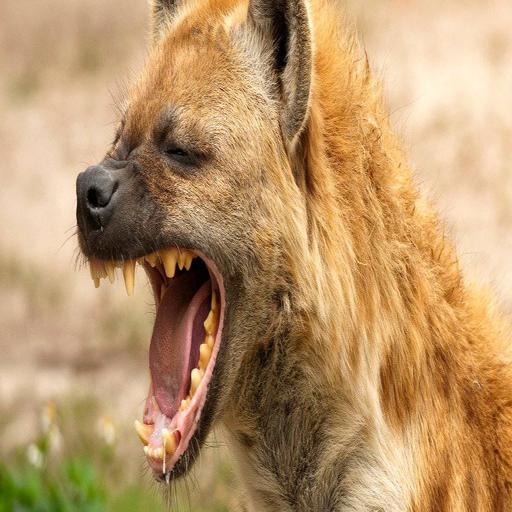Hyena: (73, 0, 512, 512)
